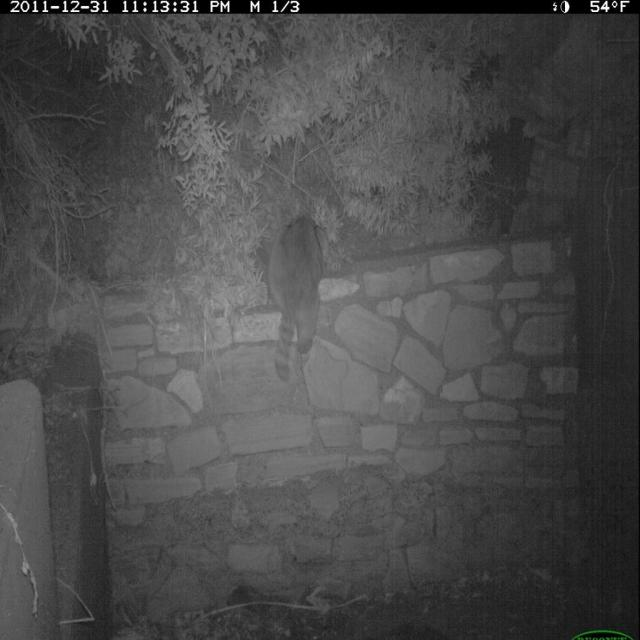raccoon: (265, 207, 326, 391)
